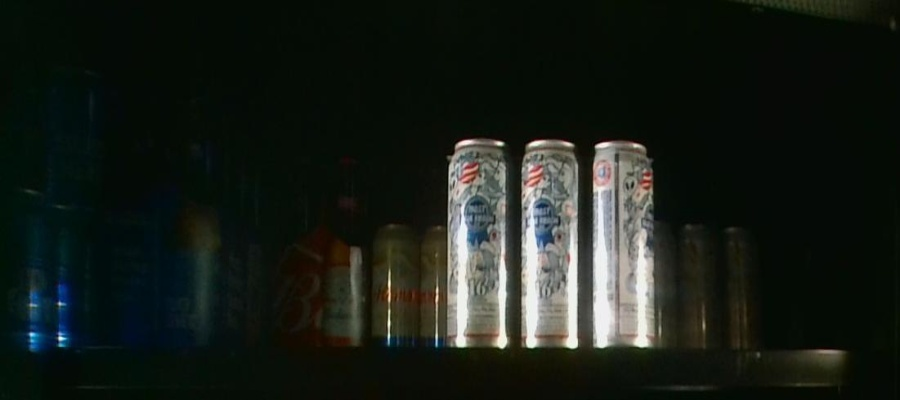bottle: (448, 139, 654, 350), (106, 108, 270, 351), (1, 73, 102, 350), (272, 142, 369, 351), (652, 214, 765, 350), (374, 214, 446, 350)
